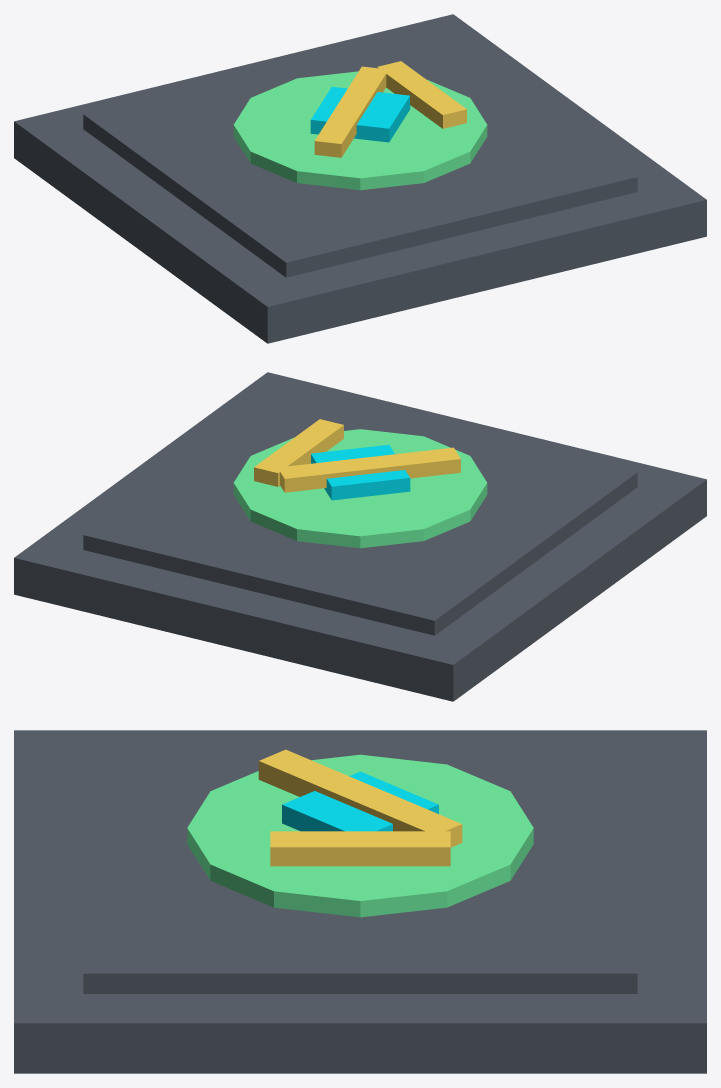
Rendered from TD_XpTile.fbx.
3 views of the same model, one above another, from view 1: azimuth 30°, elevation 25°; view 2: azimuth 150°, elevation 25°; view 3: azimuth 270°, elevation 25° (orthographic). The views are drawn at different scales.
Parts seen in each view (by area): view 1: TD_XpTile_BasePlate, TD_XpTile_Surface, TD_XpTile_XpCircle, TD_XpTile_XBar, TD_XpTile_XpGem_Center, TD_XpTile_PBar; view 2: TD_XpTile_BasePlate, TD_XpTile_Surface, TD_XpTile_XpCircle, TD_XpTile_XBar, TD_XpTile_XpGem_Center, TD_XpTile_PBar; view 3: TD_XpTile_BasePlate, TD_XpTile_Surface, TD_XpTile_XpCircle, TD_XpTile_PBar, TD_XpTile_XBar, TD_XpTile_XpGem_Center.
Part boxes in pixels (x1,y1,x2,y2): TD_XpTile_BasePlate: (14, 14, 706, 343); TD_XpTile_Surface: (83, 28, 637, 277); TD_XpTile_XpCircle: (233, 71, 487, 190); TD_XpTile_XBar: (314, 66, 386, 157); TD_XpTile_XpGem_Center: (310, 86, 410, 142); TD_XpTile_PBar: (377, 61, 466, 128); TD_XpTile_BasePlate: (14, 372, 706, 701); TD_XpTile_Surface: (83, 386, 637, 635); TD_XpTile_XpCircle: (233, 429, 487, 548); TD_XpTile_XBar: (278, 447, 460, 492); TD_XpTile_XpGem_Center: (310, 444, 410, 500); TD_XpTile_PBar: (254, 419, 343, 486); TD_XpTile_BasePlate: (14, 730, 706, 1073); TD_XpTile_Surface: (83, 739, 637, 993); TD_XpTile_XpCircle: (187, 754, 533, 917); TD_XpTile_PBar: (270, 831, 450, 866); TD_XpTile_XBar: (258, 749, 462, 847); TD_XpTile_XpGem_Center: (282, 771, 438, 831).
Bounding box in the file's own units: 100 × 20.5 × 100.
